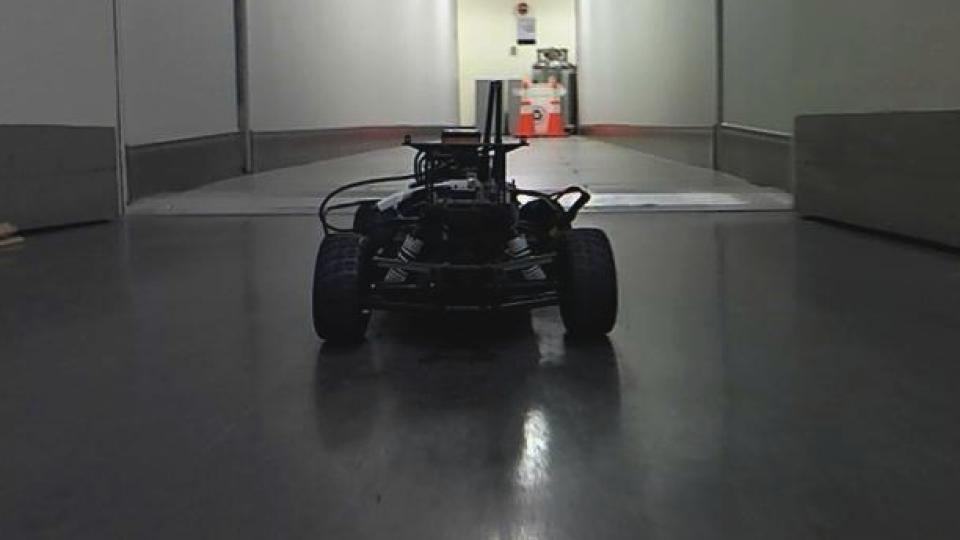car: (308, 76, 621, 348)
